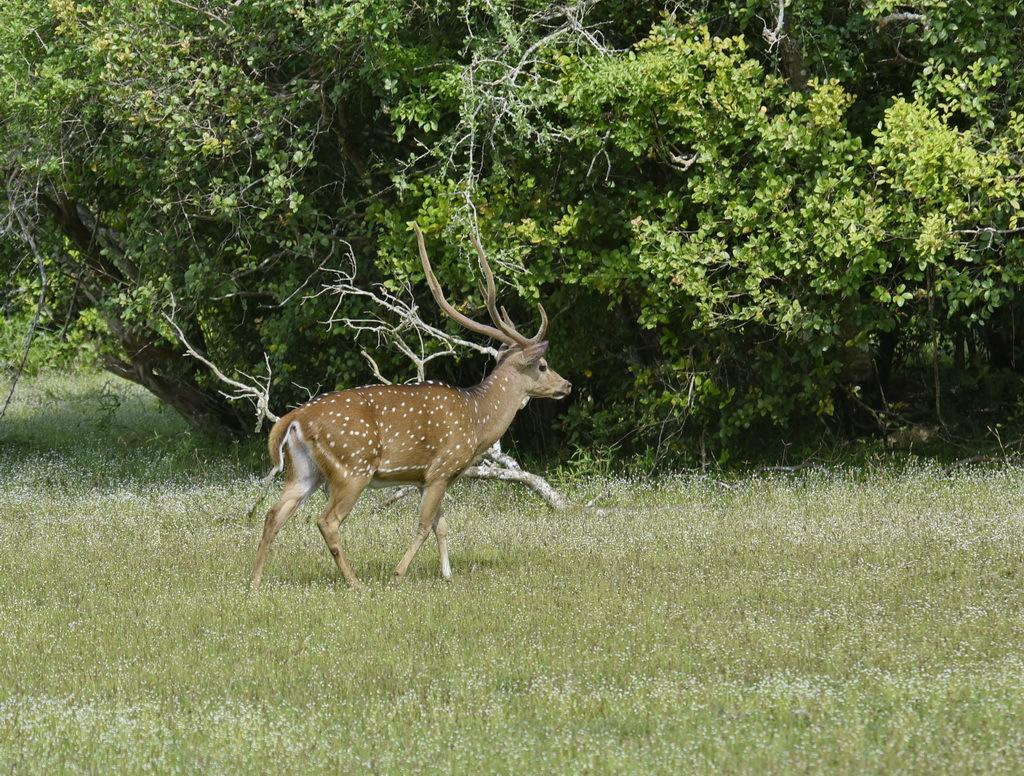Deer: (251, 226, 571, 586)
